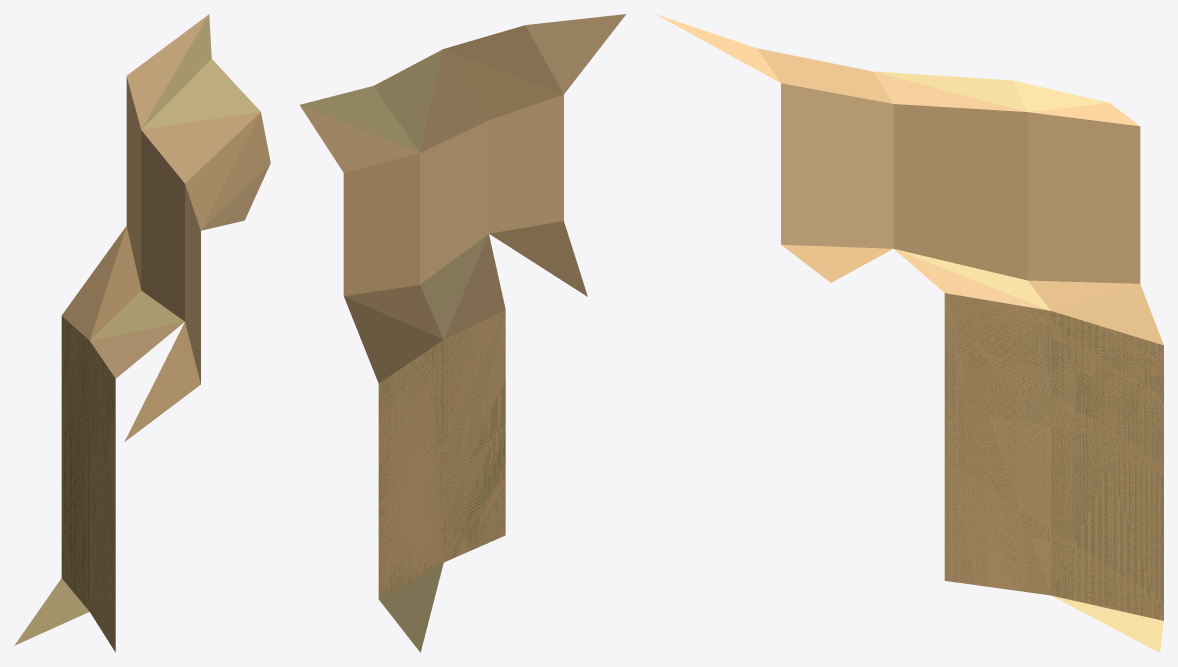
The model's file is export_0003ACAD.obj.
3 renders of one model, left to right at view 1: azimuth 30°, elevation 25°; view 2: azimuth 150°, elevation 25°; view 3: azimuth 270°, elevation 25°, orthographic. The views are drawn at different scales.
Parts seen in each view (by area): view 1: O3ACAD; view 2: O3ACAD; view 3: O3ACAD.
Part boxes in pixels (x1,y1,x2,y2): O3ACAD: (14,14,270,652); O3ACAD: (300,14,625,652); O3ACAD: (656,14,1163,652).
Bounding box in the file's own units: 21.7 × 57.77 × 41.77.
